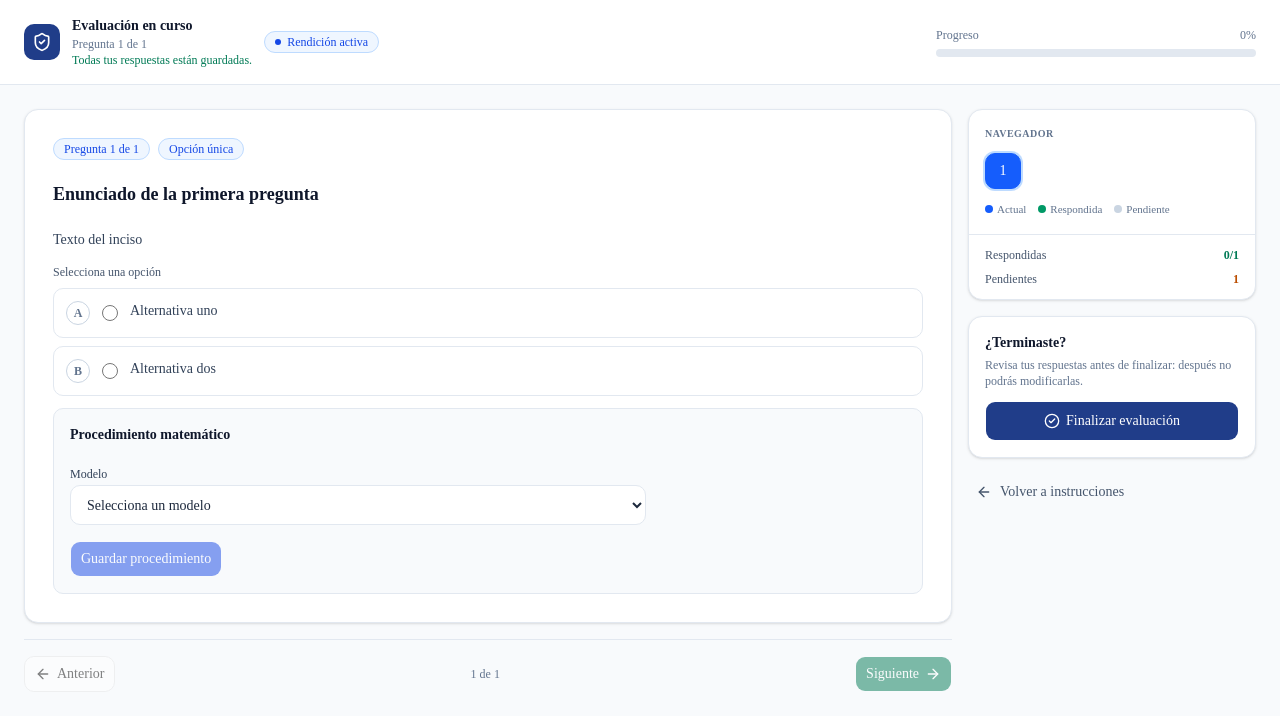
Test: RendicionEvaluacion › selecciona un modelo y presenta su descripción
Select "Modelo lineal" in the dropdown named "Modelo del inciso a" at point(358, 505), box [70,485,646,525]
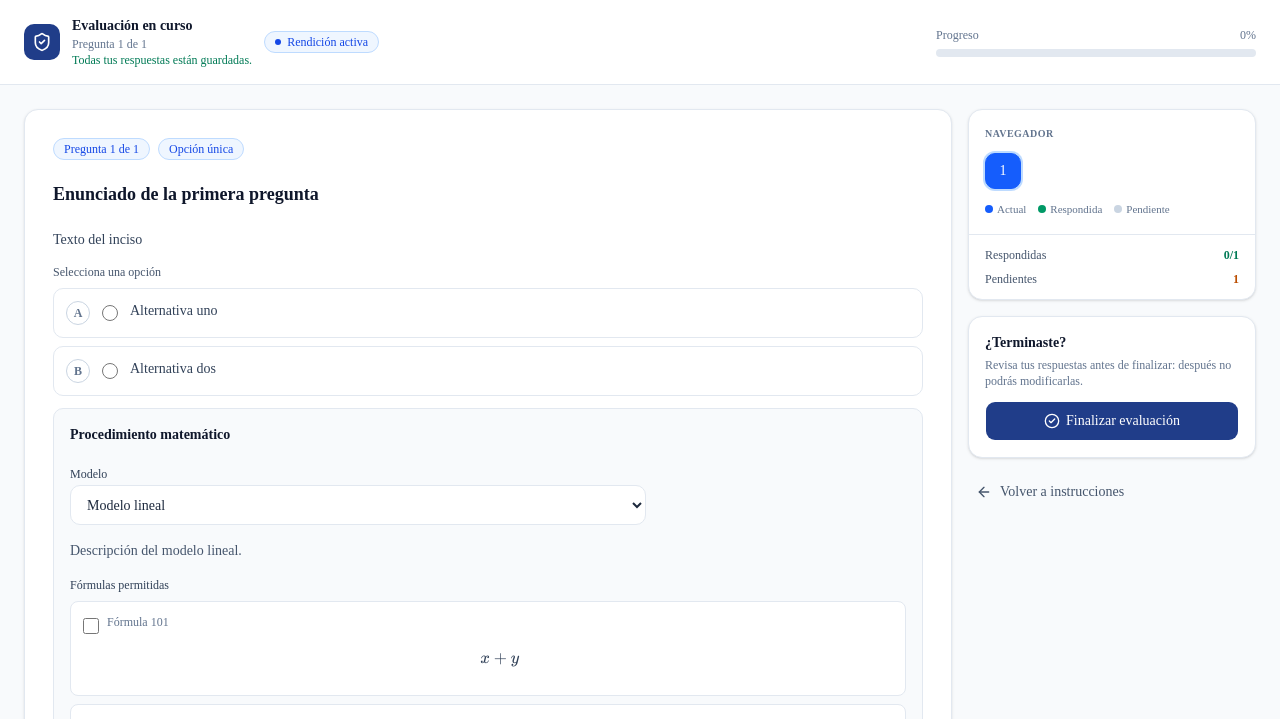
Expected: the text "Descripción del modelo lineal." is shown, [70,543,242,558]
Expected: the checkbox named "Seleccionar fórmula 101" is shown, [83,618,99,634]
